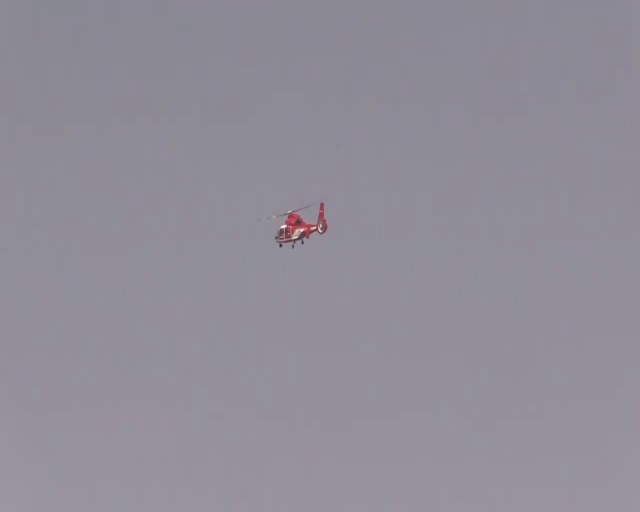HELICOPTER: (261, 199, 328, 249)
